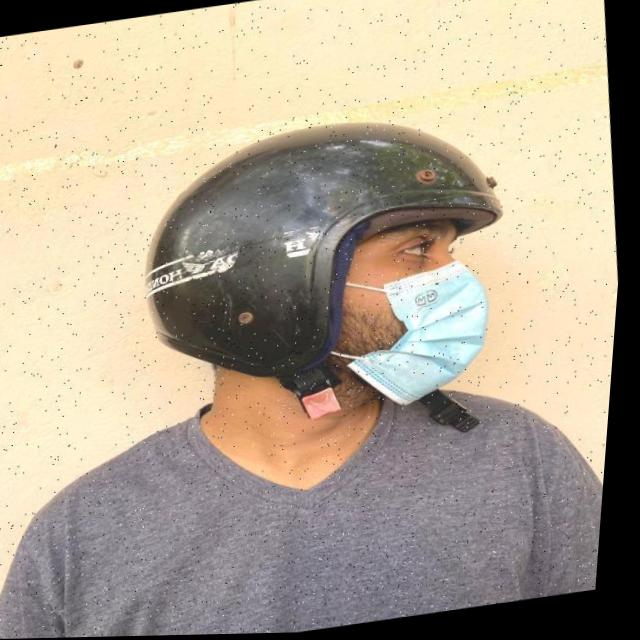helmet: (122, 102, 541, 482)
